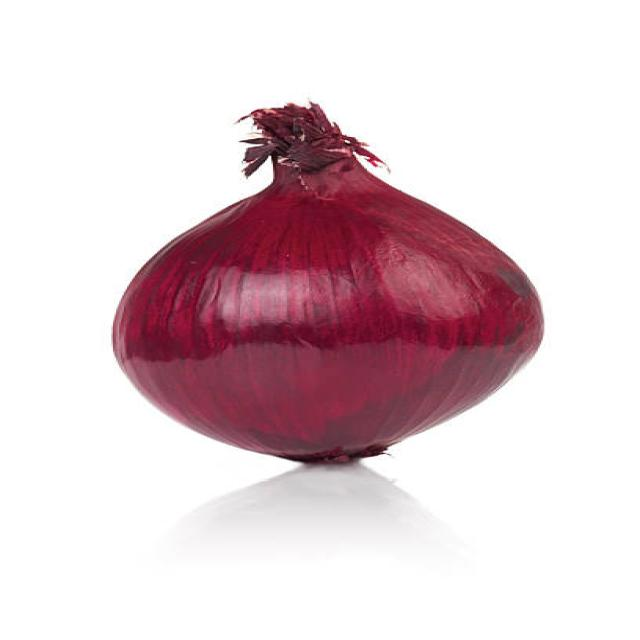onion: (111, 155, 546, 472)
